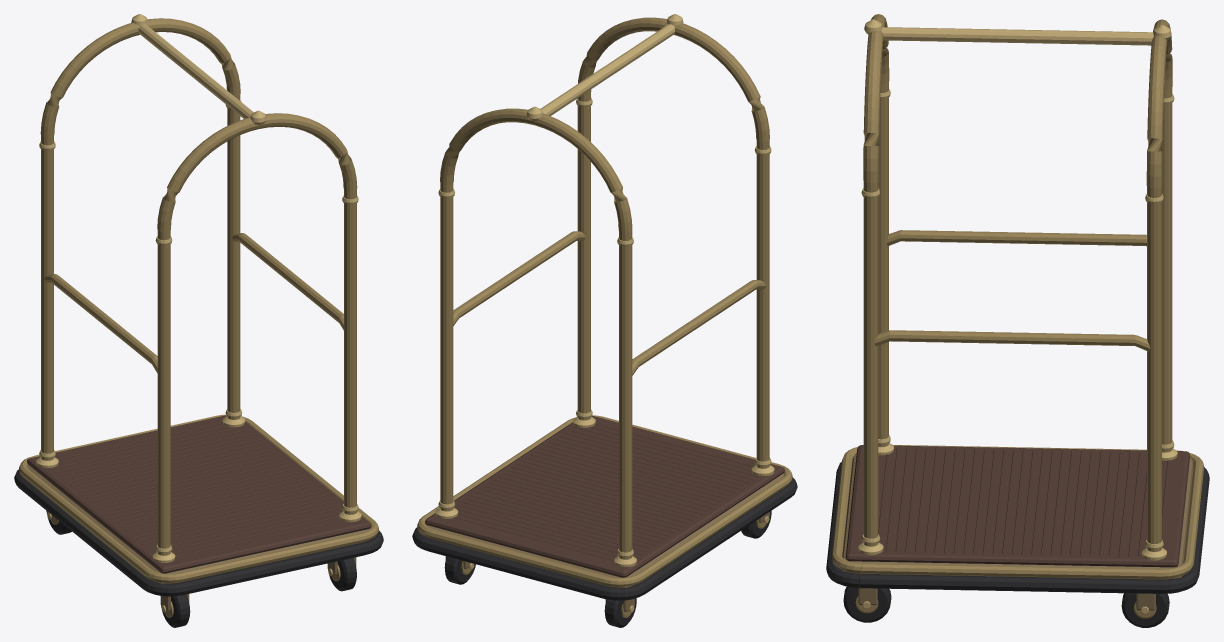
The model's file is trolley.glb.
3 views of the same model, side by side, from view 1: azimuth 30°, elevation 25°; view 2: azimuth 150°, elevation 25°; view 3: azimuth 270°, elevation 25° (orthographic). The views are drawn at different scales.
Parts seen in each view (by area): view 1: 실내 조명 베이크용 trolley; view 2: 실내 조명 베이크용 trolley; view 3: 실내 조명 베이크용 trolley.
Boxes of the visible parts, <box> form: 실내 조명 베이크용 trolley: <box>14,14,383,627</box>; 실내 조명 베이크용 trolley: <box>412,14,797,627</box>; 실내 조명 베이크용 trolley: <box>826,14,1209,627</box>.
Size of the model in its own units: 0.9399 by 1.83 by 1.15.
